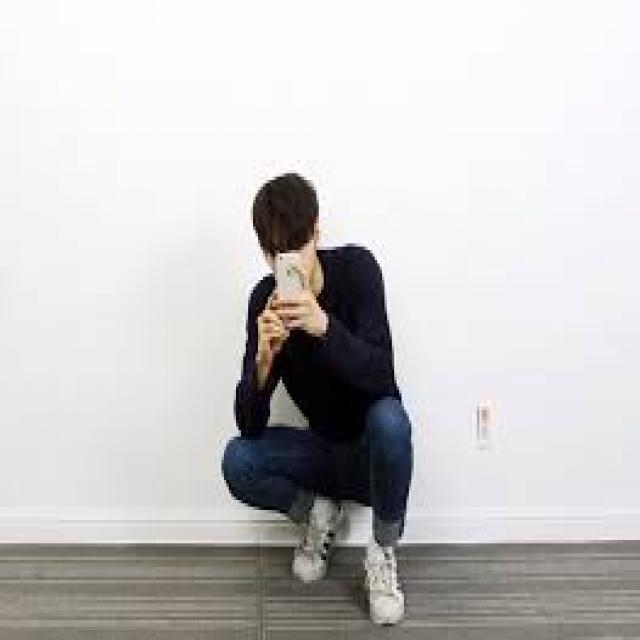Phone: (273, 250, 308, 301)
